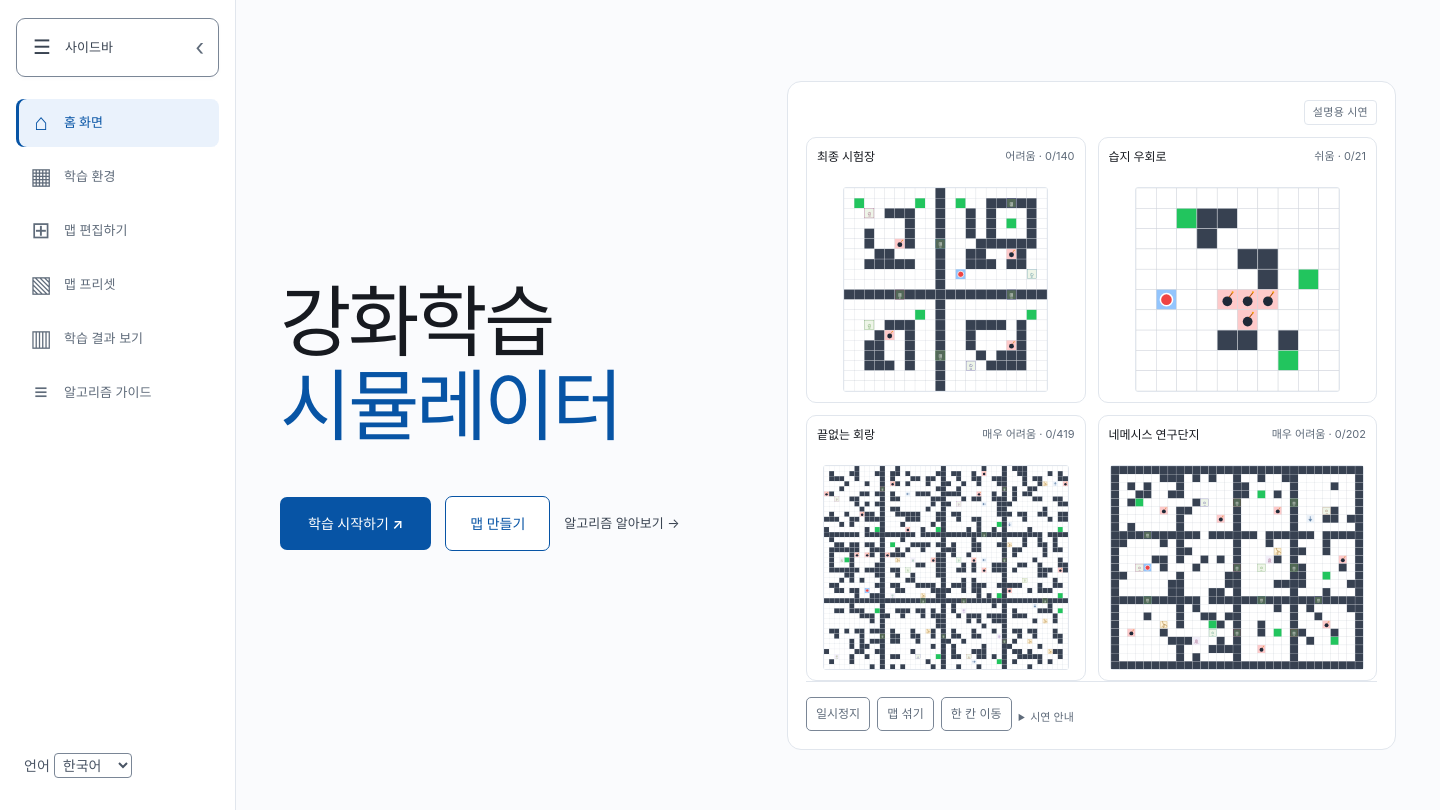
Test: training-complete toast › Run policy replays the Q-table greedily on the same screen, with no results navigation or learning
Click the button with test id "nav-environment": [118, 176] box [16,152,219,200]
Wait 4000 ms
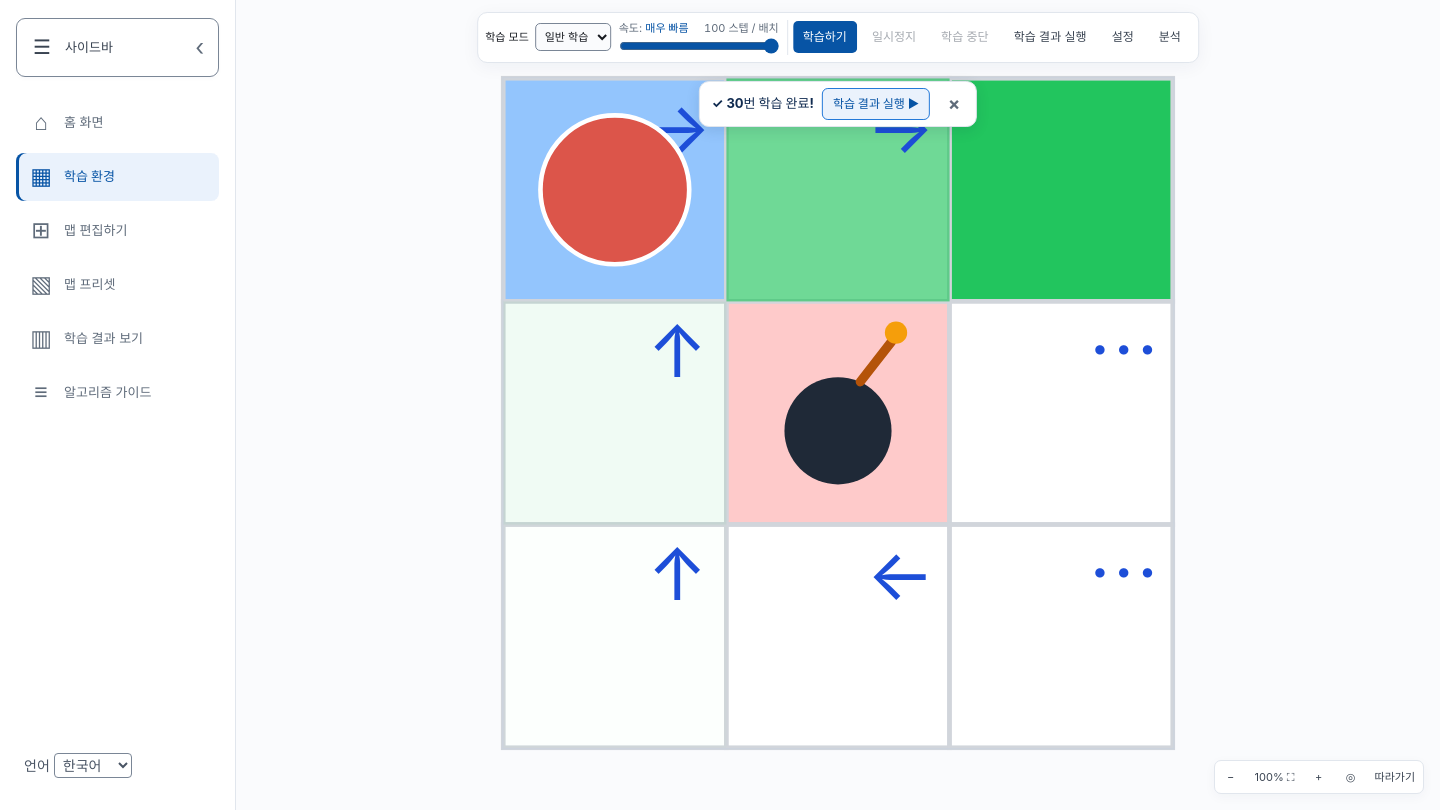
Click the button with test id "completion-run-policy": [876, 104] box [822,88,930,120]
Wait 30000 ms
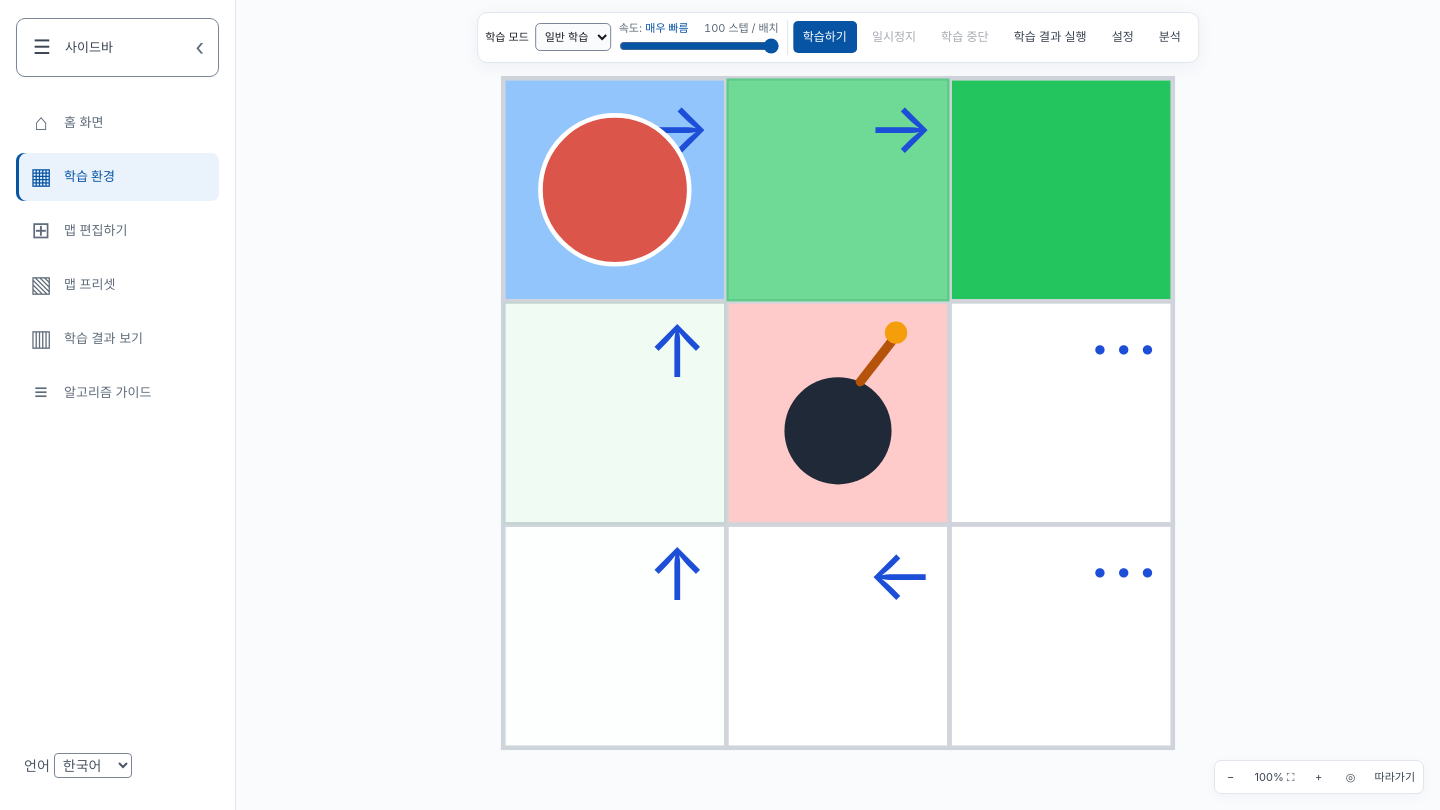
Expected: the message with test id "training-complete" is gone
